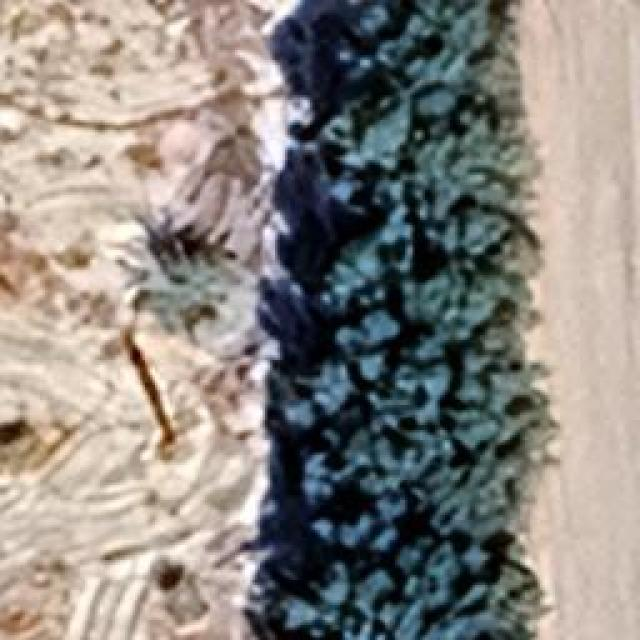PalmTree: (145, 238, 243, 342)
